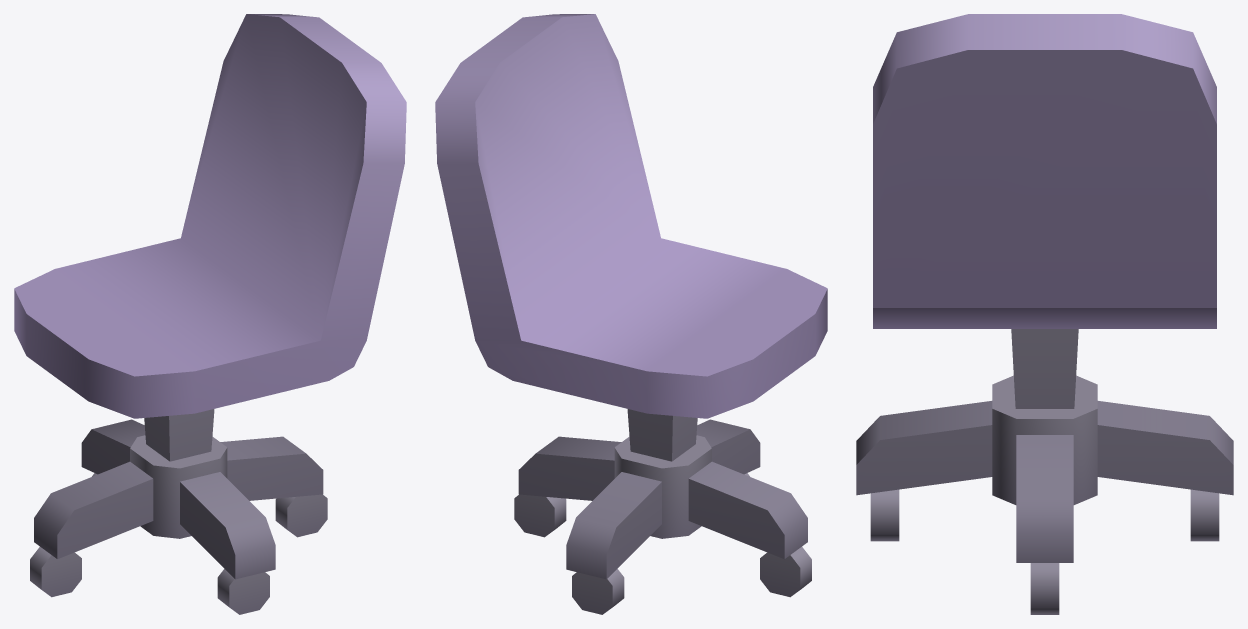
The model's file is desk-chair-design.glb.
3 renders of one model, left to right at view 1: azimuth 30°, elevation 25°; view 2: azimuth 150°, elevation 25°; view 3: azimuth 270°, elevation 25°, orthographic. The views are drawn at different scales.
Parts seen in each view (by area): view 1: desk-chair-design; view 2: desk-chair-design; view 3: desk-chair-design.
Part boxes in pixels (x1=…): desk-chair-design: x1=14, y1=14, x2=406, y2=614; desk-chair-design: x1=435, y1=14, x2=827, y2=614; desk-chair-design: x1=856, y1=14, x2=1233, y2=614.
Bounding box in the file's own units: 0.4676 × 0.6932 × 0.395.
